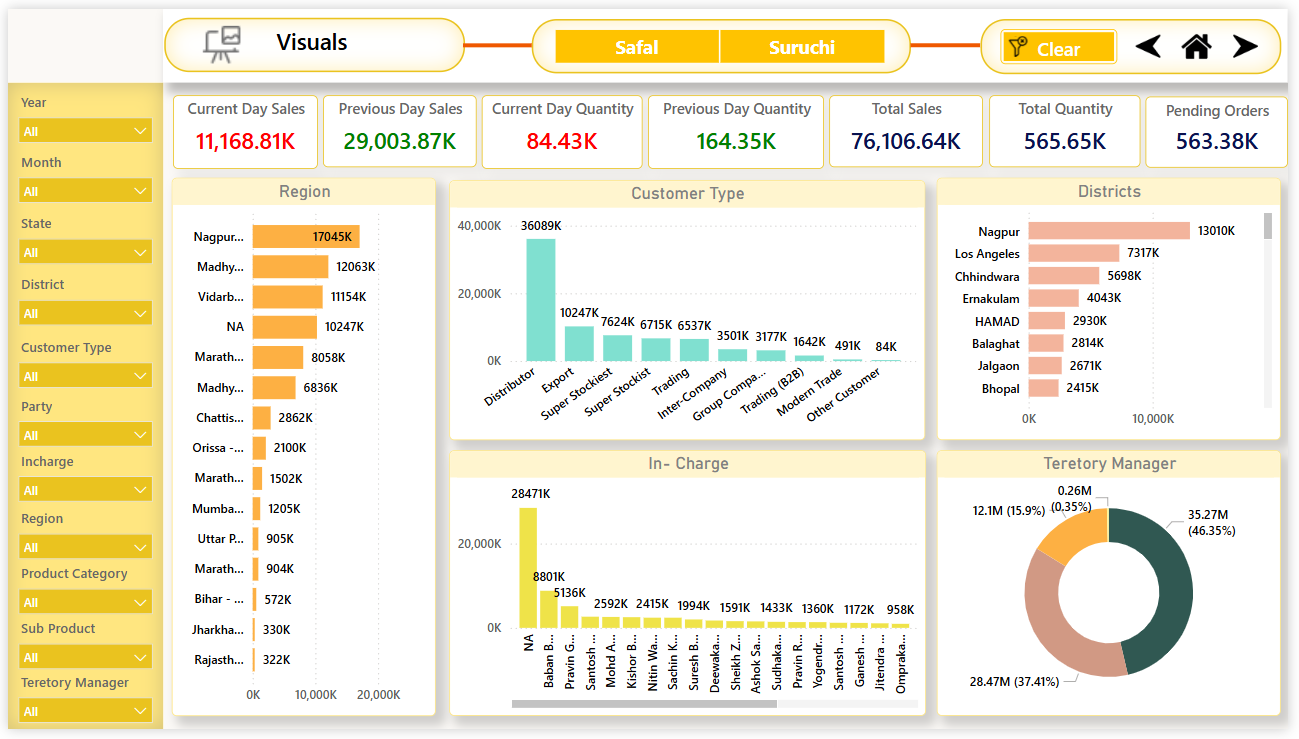

The dashboard page shown, as its layout file describes it:
{"tool":"powerbi","page":{"name":"Visuals","canvas":[1280,720],"ordinal":3},"visuals":[{"type":"shape","box":[0,73.8,155,646.2],"z":0},{"type":"shape","box":[155,0,1125,73.8],"z":1000},{"type":"shape","box":[155.6,8.4,300.4,54.3],"z":2000},{"type":"shape","box":[523.6,9.7,378.8,54.3],"z":3000},{"type":"shape","box":[454.8,21.7,68.8,30.2],"z":4000},{"type":"actionButton","box":[165,12.5,277.5,45],"z":6000},{"type":"slicer","fields":{"Values":["Company.Company"]},"box":[521.2,13.3,378.8,43.4],"z":7000},{"type":"slicer","fields":{"Values":["Fiscal Year.Year"]},"box":[0,78.4,154.4,59.1],"z":8000},{"type":"slicer","fields":{"Values":["Fiscal Year.Month"]},"box":[0,138.7,154.4,59.1],"z":9000},{"type":"slicer","fields":{"Values":["State.x_state"]},"box":[0,200.3,154.4,59.1],"z":10000},{"type":"slicer","fields":{"Values":["District.x_district"]},"box":[0,261.8,154.4,59.1],"z":11000},{"type":"slicer","fields":{"Values":["Customer Type.xx_customer_type"]},"box":[0,323.3,154.4,59.1],"z":12000},{"type":"slicer","fields":{"Values":["Party.party_code"]},"box":[0,382.4,154.4,59.1],"z":13000},{"type":"slicer","fields":{"Values":["Incharge.incharge"]},"box":[0,437.9,154.4,59.1],"z":14000},{"type":"slicer","fields":{"Values":["Region.x_region"]},"box":[0,494.6,154.4,59.1],"z":15000},{"type":"slicer","fields":{"Values":["Product Category.Product Category"]},"box":[0,550.1,154.4,59.1],"z":16000},{"type":"slicer","fields":{"Values":["Sub Product.x_sub_product_category"]},"box":[0,604.4,154.4,59.1],"z":17000},{"type":"slicer","fields":{"Values":["Teretory Manager.teretory_manager"]},"box":[0,658.7,154.4,59.1],"z":18000},{"type":"card","title":"Current Day Sales","fields":{"Values":["DAX.Current Day Sales"]},"box":[165.3,85.7,144.8,73.6],"z":19000},{"type":"card","title":"Previous Day Sales","fields":{"Values":["DAX.Previous Day Sales"]},"box":[314.9,86.9,153.2,72.4],"z":20000},{"type":"card","title":"Current Day Quantity","fields":{"Values":["DAX.Current Day Quantity"]},"box":[474.1,85.7,160.5,73.6],"z":21000},{"type":"card","title":"Previous Day Quantity","fields":{"Values":["DAX.Previous Day Quantity"]},"box":[639.4,85.7,176.1,73.6],"z":22000},{"type":"card","title":"Total Sales","fields":{"Values":["DAX.Total Sales"]},"box":[821.6,86.9,153.2,72.4],"z":23000},{"type":"card","title":"Total Quantity","fields":{"Values":["DAX.Total Quantity"]},"box":[980.8,86.9,150.8,72.4],"z":24000},{"type":"card","title":"Pending Orders","fields":{"Values":["Sum(Safal & Suruchi Pending Order.Ordered Qty. in KG)"]},"box":[1137.7,88.1,142.4,71.2],"z":25000},{"type":"shape","box":[972.4,9.7,300.4,55.5],"z":26000},{"type":"shape","box":[902.4,21.7,70,30.2],"z":27000},{"type":"image","box":[1166.6,16.9,44.6,39.8],"z":28000},{"type":"image","box":[1120.8,20.5,37.4,35],"z":29000},{"type":"image","box":[1218.5,20.5,37.4,35],"z":30000},{"type":"actionButton","box":[992.9,20.5,117,35],"z":31000},{"type":"barChart","title":"Region","fields":{"Y":["Sum(Safal & Suruchi 7 Days Sales.x_sub_total)"],"Category":["Region.x_region"]},"box":[164.3,168.6,264.3,538.6],"z":32000},{"type":"columnChart","title":"Customer Type","fields":{"Category":["Customer Type.xx_customer_type"],"Y":["Sum(Safal & Suruchi 7 Days Sales.x_sub_total)"]},"box":[441.4,171.4,475.7,260],"z":33000},{"type":"columnChart","title":"In- Charge","fields":{"Category":["Incharge.incharge"],"Y":["Sum(Safal & Suruchi 7 Days Sales.x_sub_total)"]},"box":[441.4,441.4,477.1,265.7],"z":34000},{"type":"barChart","title":"Districts","fields":{"Category":["District.x_district"],"Y":["Sum(Safal & Suruchi 7 Days Sales.x_sub_total)"]},"box":[928.8,168.8,343.8,262.5],"z":35000},{"type":"donutChart","title":"Teretory Manager","fields":{"Category":["Teretory Manager.teretory_manager"],"Y":["Sum(Safal & Suruchi 7 Days Sales.x_sub_total)"]},"box":[928.6,441.4,344.3,265.7],"z":36000},{"type":"image","box":[190,11.4,47.1,48.6],"z":37000}]}

Visuals, with their boxes in screenshot pixels (x1, y1, x2, y2), scaled from the page's 1280x720 canvas onto the 1299x739 screenshot:
shape: x1=0, y1=76, x2=157, y2=738
shape: x1=157, y1=0, x2=1298, y2=76
shape: x1=158, y1=9, x2=463, y2=64
shape: x1=531, y1=10, x2=916, y2=66
shape: x1=462, y1=22, x2=531, y2=53
actionButton: x1=167, y1=13, x2=449, y2=59
slicer - Company.Company: x1=529, y1=14, x2=913, y2=58
slicer - Fiscal Year.Year: x1=0, y1=80, x2=157, y2=141
slicer - Fiscal Year.Month: x1=0, y1=142, x2=157, y2=203
slicer - State.x_state: x1=0, y1=206, x2=157, y2=266
slicer - District.x_district: x1=0, y1=269, x2=157, y2=329
slicer - Customer Type.xx_customer_type: x1=0, y1=332, x2=157, y2=392
slicer - Party.party_code: x1=0, y1=392, x2=157, y2=453
slicer - Incharge.incharge: x1=0, y1=449, x2=157, y2=510
slicer - Region.x_region: x1=0, y1=508, x2=157, y2=568
slicer - Product Category.Product Category: x1=0, y1=565, x2=157, y2=625
slicer - Sub Product.x_sub_product_category: x1=0, y1=620, x2=157, y2=681
slicer - Teretory Manager.teretory_manager: x1=0, y1=676, x2=157, y2=737
"Current Day Sales" card: x1=168, y1=88, x2=315, y2=164
"Previous Day Sales" card: x1=320, y1=89, x2=475, y2=164
"Current Day Quantity" card: x1=481, y1=88, x2=644, y2=164
"Previous Day Quantity" card: x1=649, y1=88, x2=828, y2=164
"Total Sales" card: x1=834, y1=89, x2=989, y2=164
"Total Quantity" card: x1=995, y1=89, x2=1148, y2=164
"Pending Orders" card: x1=1155, y1=90, x2=1298, y2=164
shape: x1=987, y1=10, x2=1292, y2=67
shape: x1=916, y1=22, x2=987, y2=53
image: x1=1184, y1=17, x2=1229, y2=58
image: x1=1137, y1=21, x2=1175, y2=57
image: x1=1237, y1=21, x2=1275, y2=57
actionButton: x1=1008, y1=21, x2=1126, y2=57
"Region" barChart: x1=167, y1=173, x2=435, y2=726
"Customer Type" columnChart: x1=448, y1=176, x2=931, y2=443
"In- Charge" columnChart: x1=448, y1=453, x2=932, y2=726
"Districts" barChart: x1=943, y1=173, x2=1291, y2=443
"Teretory Manager" donutChart: x1=942, y1=453, x2=1292, y2=726
image: x1=193, y1=12, x2=241, y2=62
